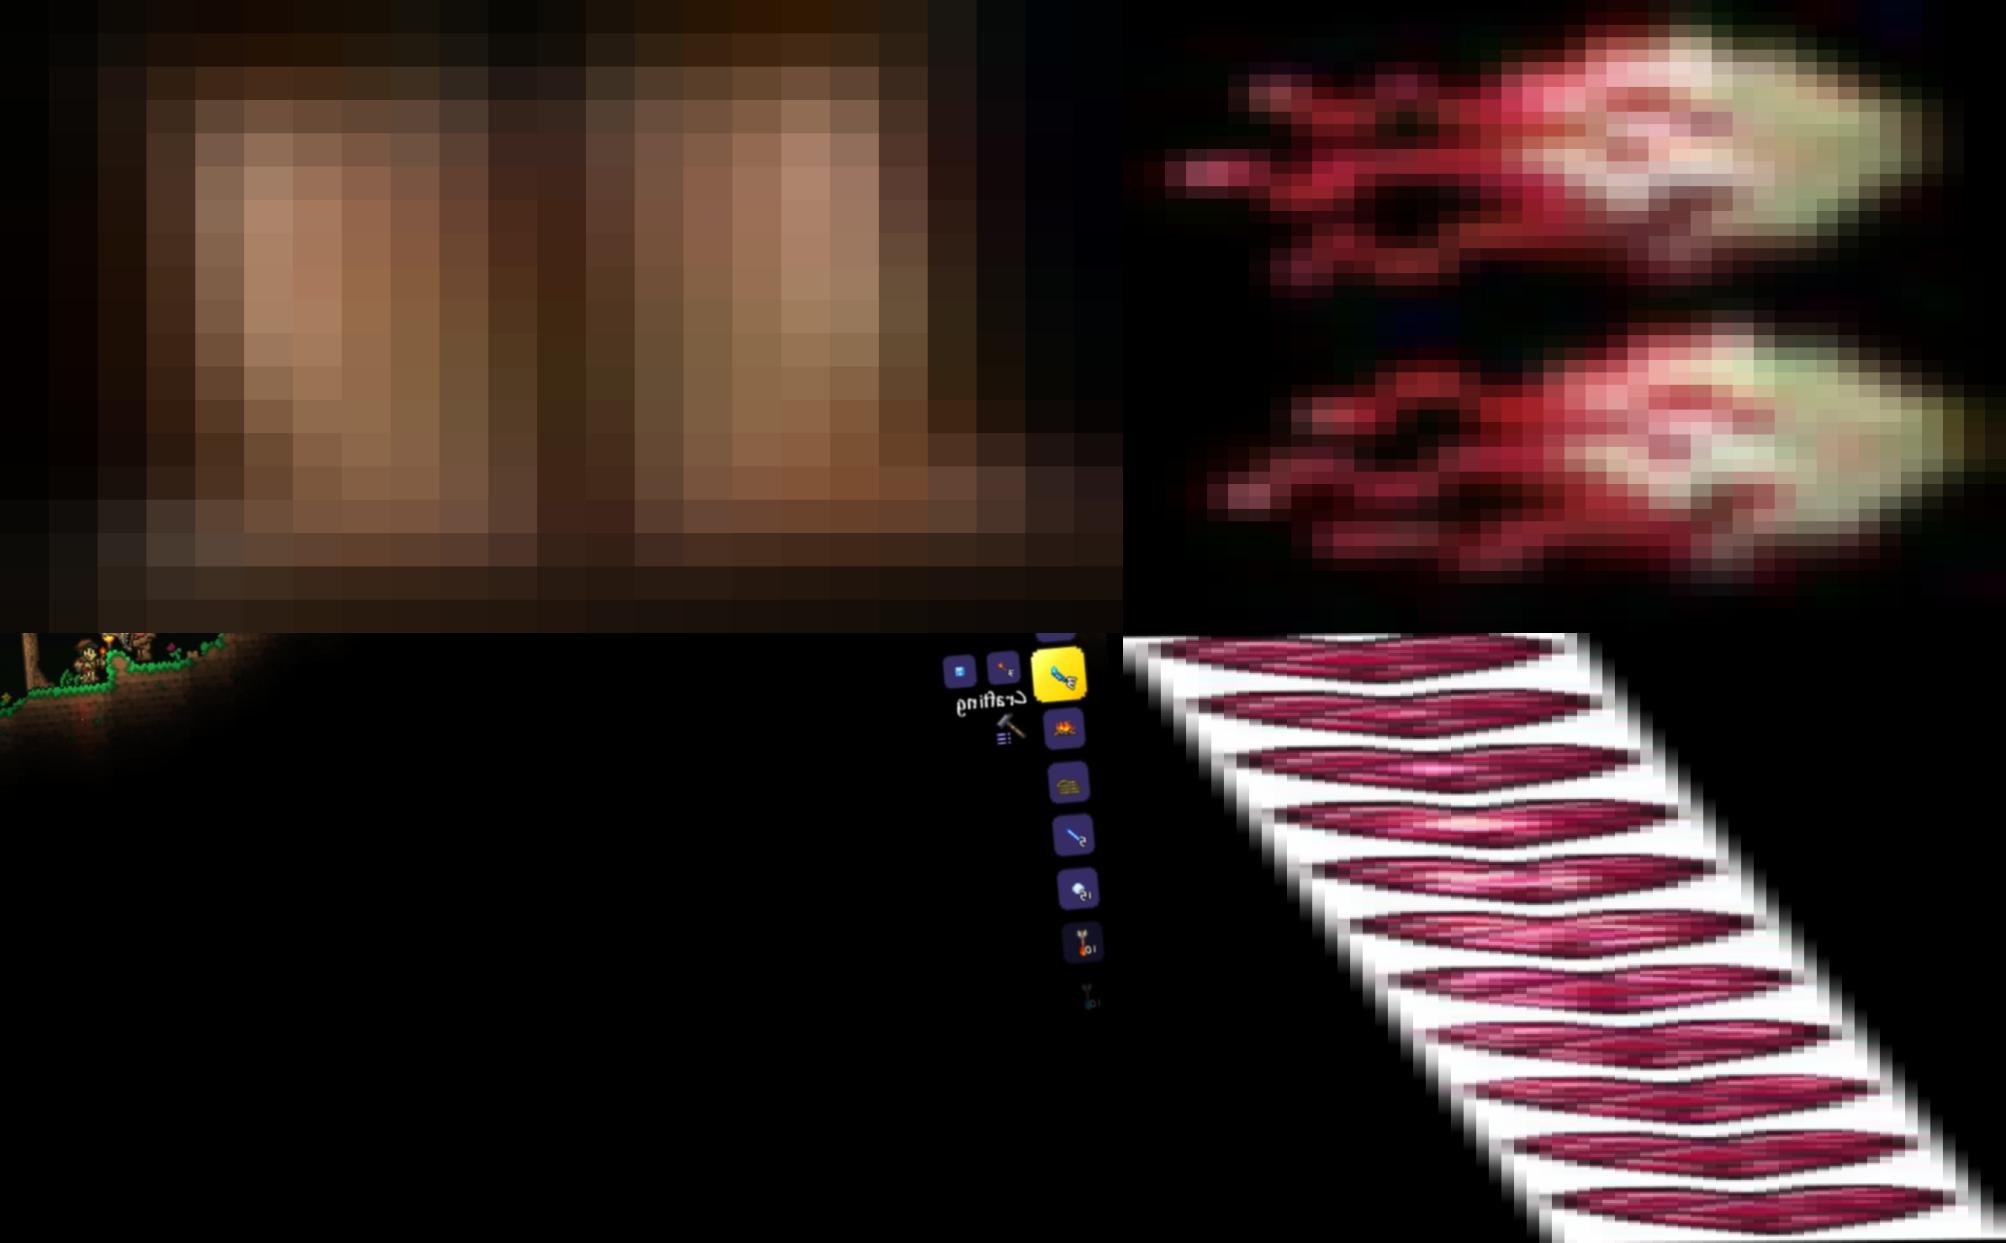eye: (1143, 0, 1964, 310)
legs: (0, 0, 1123, 634)
lifeC: (1123, 634, 1589, 685)
